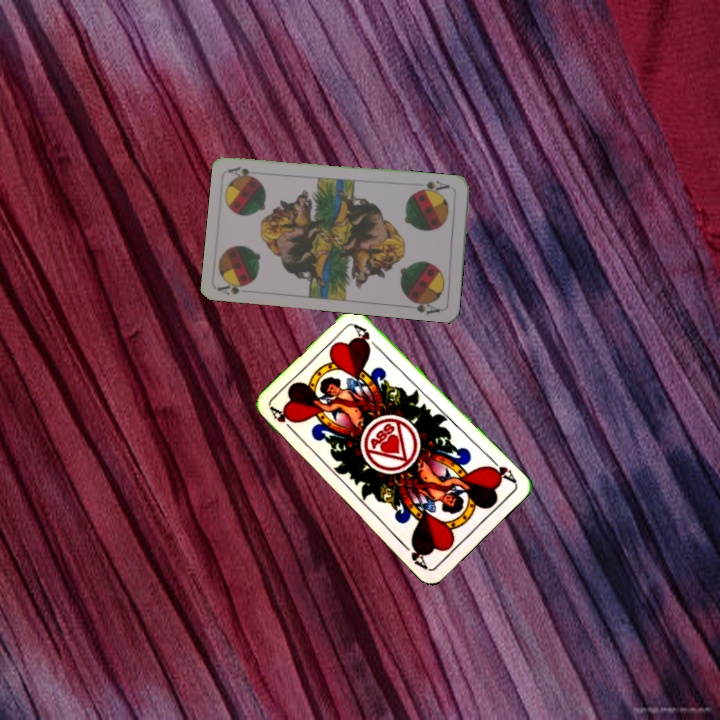HA: (484, 453, 519, 486), (266, 403, 299, 436)
SA: (414, 177, 455, 196), (215, 277, 253, 297)
